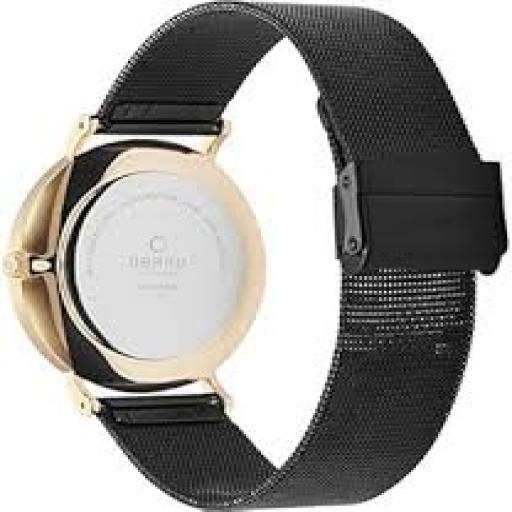KolSaati: (0, 2, 510, 508)
